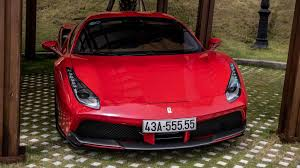Car number plates: (143, 119, 197, 131)
